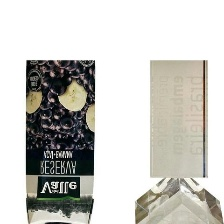carton: (17, 59, 109, 223)
